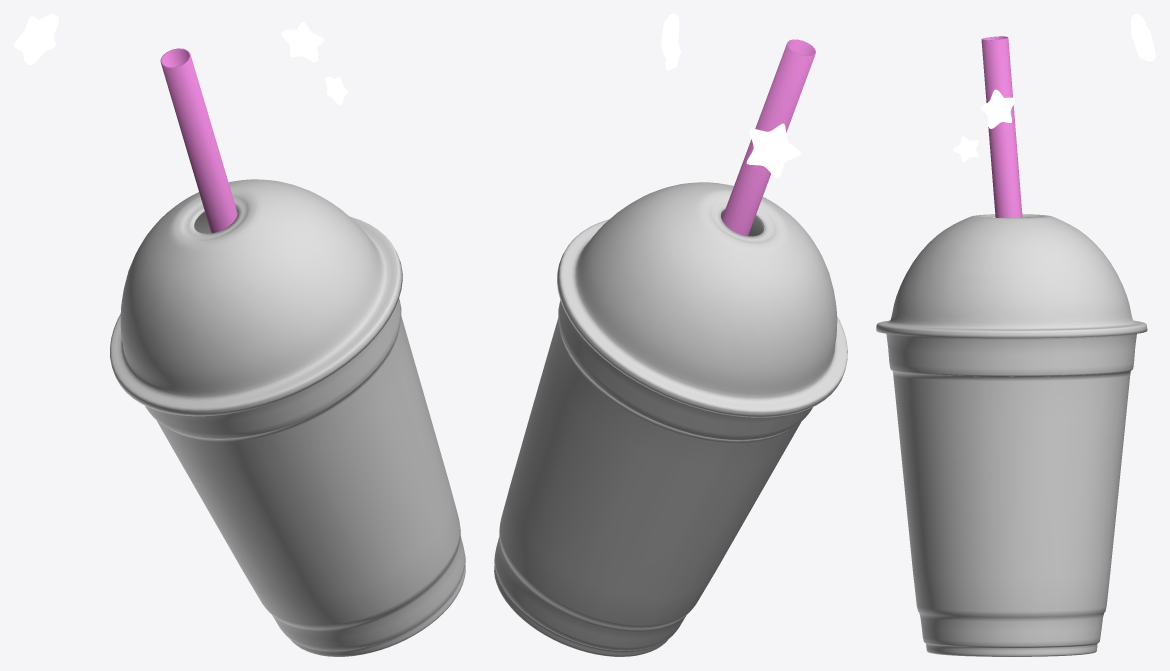
File: boba_tea.gltf
The picture shows the model from 3 angles, left to right: view 1: azimuth 30°, elevation 25°; view 2: azimuth 150°, elevation 25°; view 3: azimuth 270°, elevation 25°; orthographic projection. The views are drawn at different scales.
Parts seen in each view (by area): view 1: cup_5, cover_6, straw_7, Star.002_3, Star_1; view 2: cup_5, cover_6, straw_7, Star.002_3, Star_1; view 3: cup_5, cover_6, straw_7, Star.002_3, Star_1.
Boxes of the visible parts, bbox=[...] form: cup_5: bbox=[145, 298, 465, 656]; cover_6: bbox=[110, 179, 402, 416]; straw_7: bbox=[160, 48, 237, 233]; Star.002_3: bbox=[14, 14, 58, 64]; Star_1: bbox=[282, 22, 323, 62]; cup_5: bbox=[494, 300, 812, 656]; cover_6: bbox=[557, 182, 847, 417]; straw_7: bbox=[721, 39, 815, 235]; Star.002_3: bbox=[746, 123, 800, 178]; Star_1: bbox=[661, 14, 679, 58]; cup_5: bbox=[886, 333, 1136, 656]; cover_6: bbox=[876, 214, 1147, 338]; straw_7: bbox=[981, 36, 1022, 217]; Star.002_3: bbox=[1130, 14, 1155, 61]; Star_1: bbox=[980, 89, 1015, 128].
Size of what is drawn, in the model's own units: 3.17 by 5.24 by 2.39.
